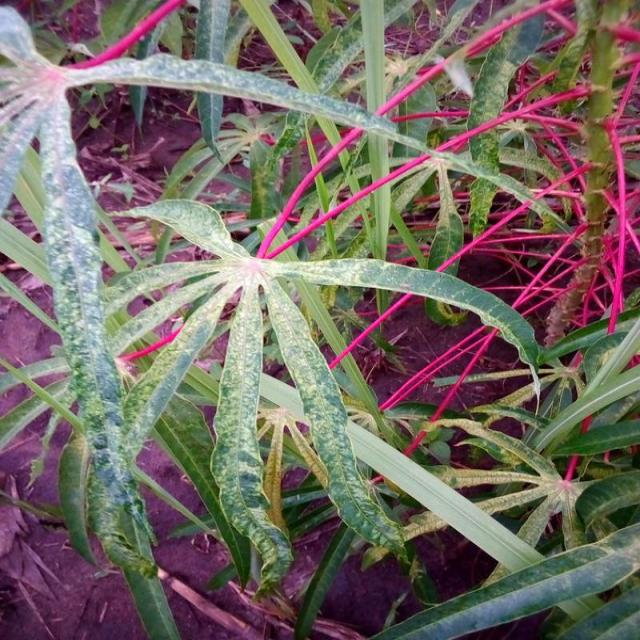cassava leaf: (0, 1, 638, 638), (100, 193, 542, 595)
